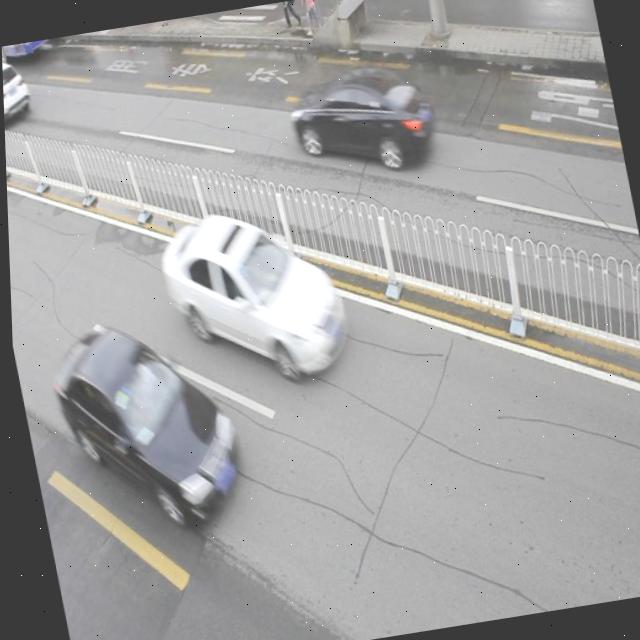car: (41, 308, 245, 535), (150, 195, 354, 395), (283, 56, 440, 184), (2, 56, 35, 131)
